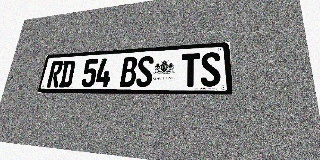4: (95, 58, 113, 87)
5: (81, 59, 99, 87)
B: (119, 57, 138, 87)
D: (58, 60, 76, 87)
R: (46, 61, 64, 87)
S: (201, 52, 221, 87), (135, 56, 154, 87)
T: (181, 53, 200, 87)
